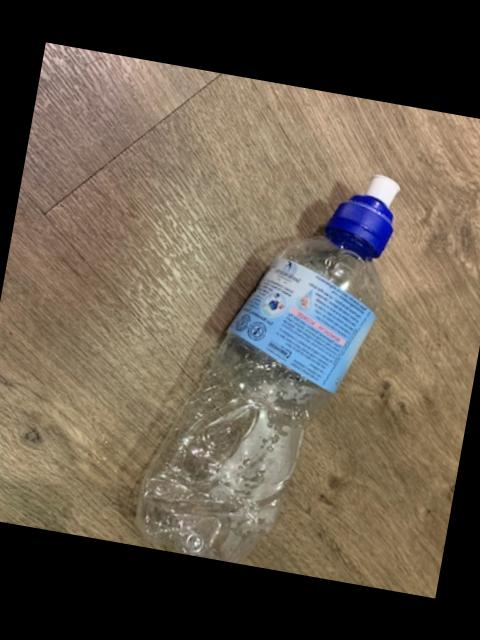plastic: (137, 178, 398, 563)
